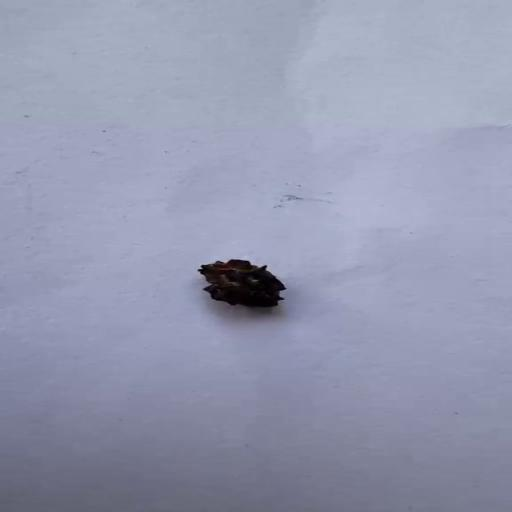papaya_seed: (197, 258, 289, 308)
